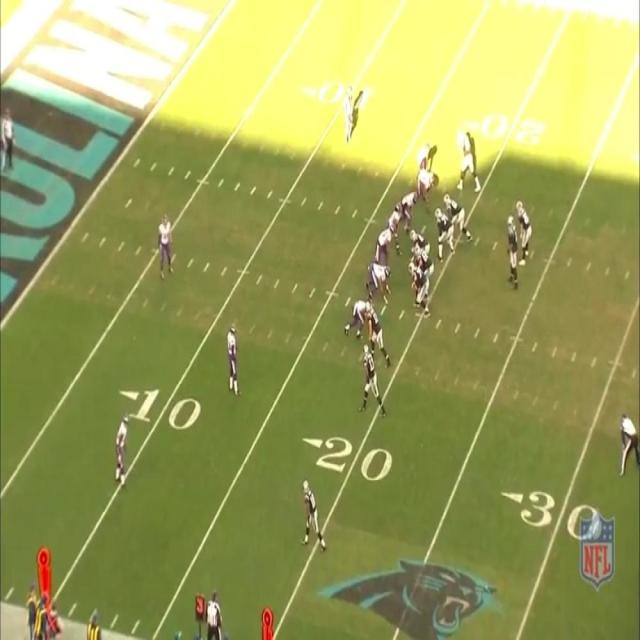center: (411, 232, 431, 251)
db: (113, 414, 129, 478), (158, 211, 172, 268), (226, 329, 238, 392), (342, 82, 353, 137)
lb: (386, 197, 402, 247), (374, 224, 394, 260), (417, 139, 432, 173)
qb: (505, 217, 522, 283)
